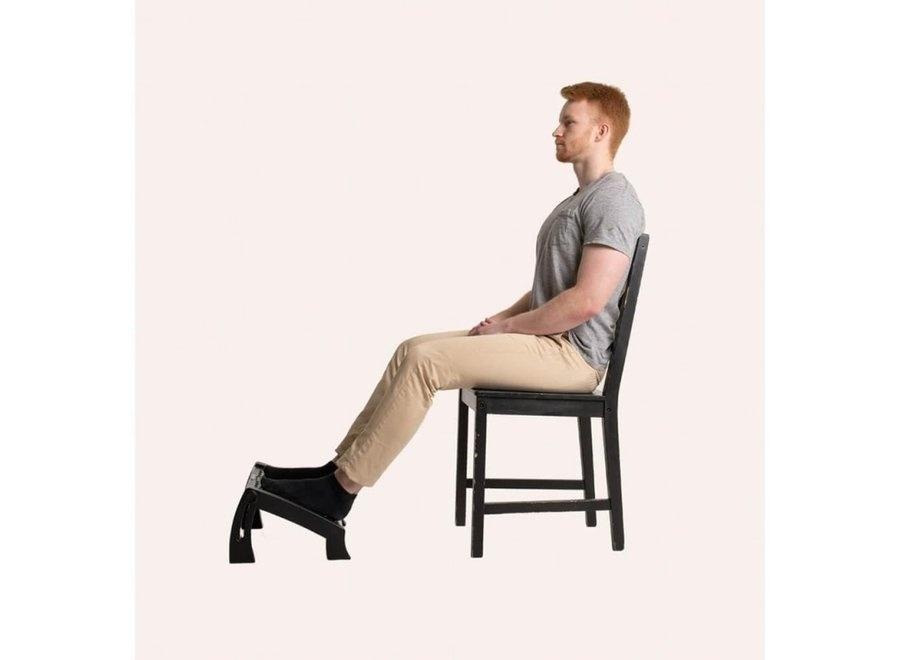good-pose: (0, 0, 900, 660)
